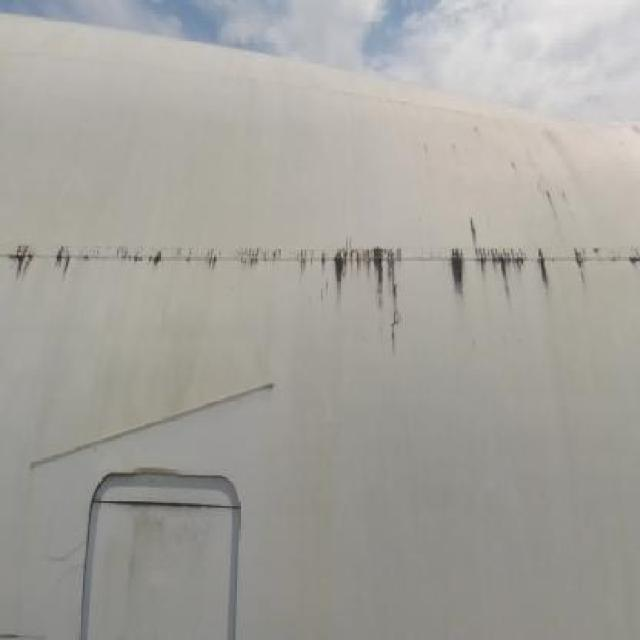Rust: (1, 223, 640, 357), (497, 122, 597, 227)
Scartch: (121, 508, 216, 584)
